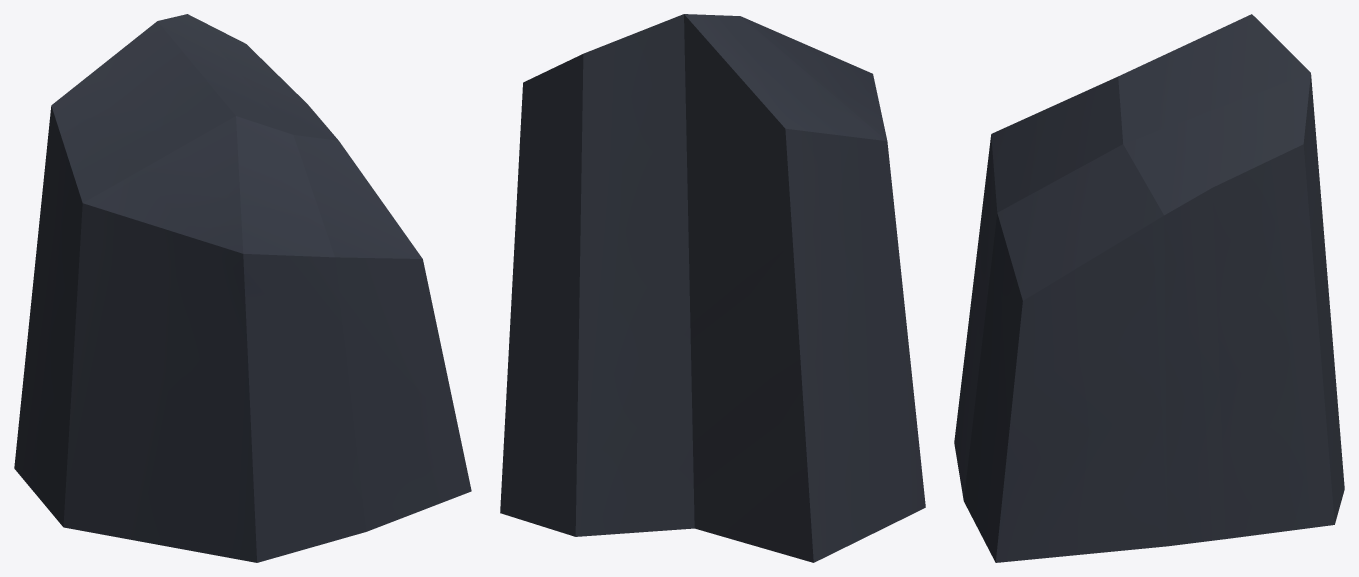
File: SM_Rock4.fbx
The picture shows the model from 3 angles, left to right: view 1: azimuth 30°, elevation 25°; view 2: azimuth 150°, elevation 25°; view 3: azimuth 270°, elevation 25°; orthographic projection. The views are drawn at different scales.
Visible parts, largest first — view 1: SM_Rock4_Body; view 2: SM_Rock4_Body; view 3: SM_Rock4_Body.
Boxes of the visible parts, x1,y1,x2,y2 form: SM_Rock4_Body: (14,14,471,562); SM_Rock4_Body: (500,14,925,562); SM_Rock4_Body: (954,14,1344,562).
Size of the model in its own units: 46.53 by 55.46 by 43.61.
